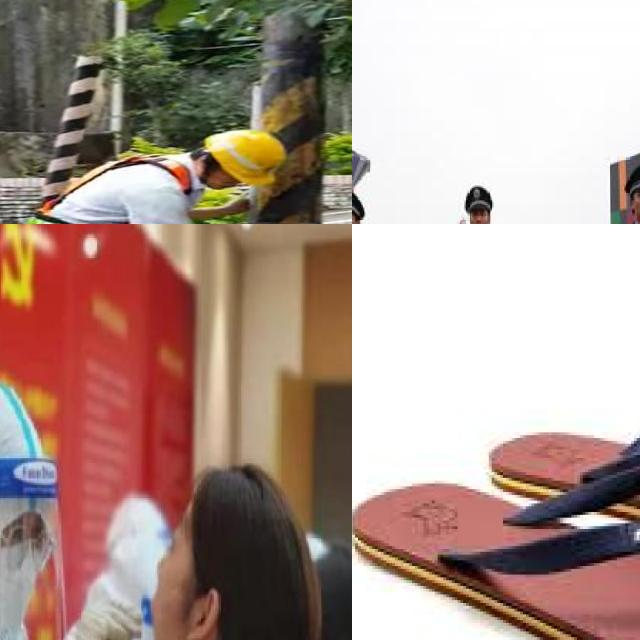Harness: (22, 151, 194, 224)
Sandals: (352, 377, 640, 640)
face_mask: (0, 506, 51, 635)
face_nomask: (115, 515, 204, 640), (470, 200, 490, 224)
glasses: (0, 519, 61, 574)
hand_glove: (52, 577, 136, 640)
head_nohelmet: (172, 444, 318, 548)
